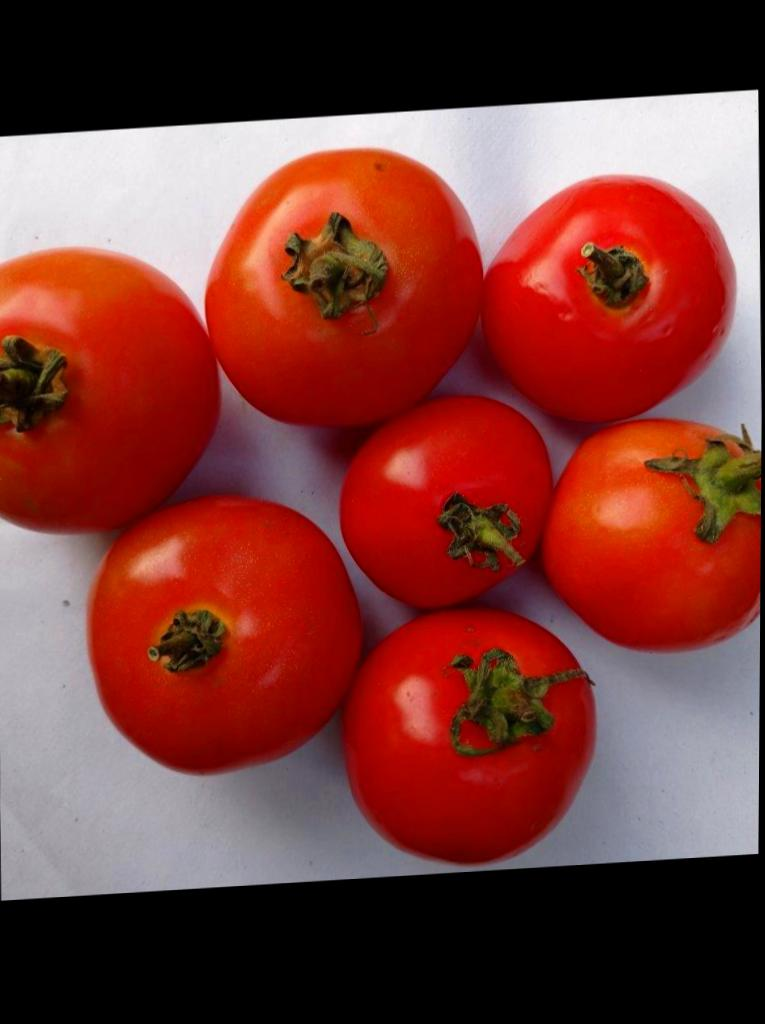tomato: (208, 150, 479, 424), (91, 497, 359, 772), (346, 611, 592, 862), (0, 250, 217, 531), (486, 177, 731, 420), (547, 421, 761, 650), (342, 400, 549, 604)
